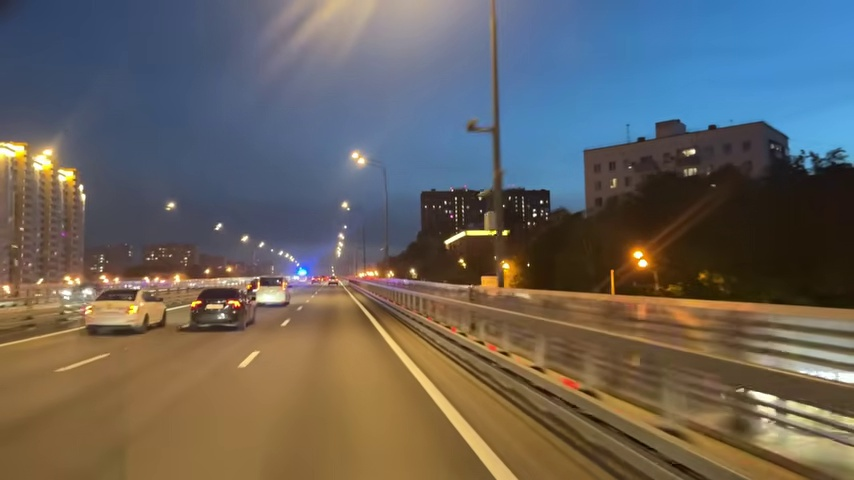acesa: (31, 146, 55, 175), (629, 248, 653, 272), (348, 149, 369, 168), (162, 198, 179, 214), (339, 199, 352, 212), (212, 221, 225, 234)
apagada: (464, 118, 480, 135)
